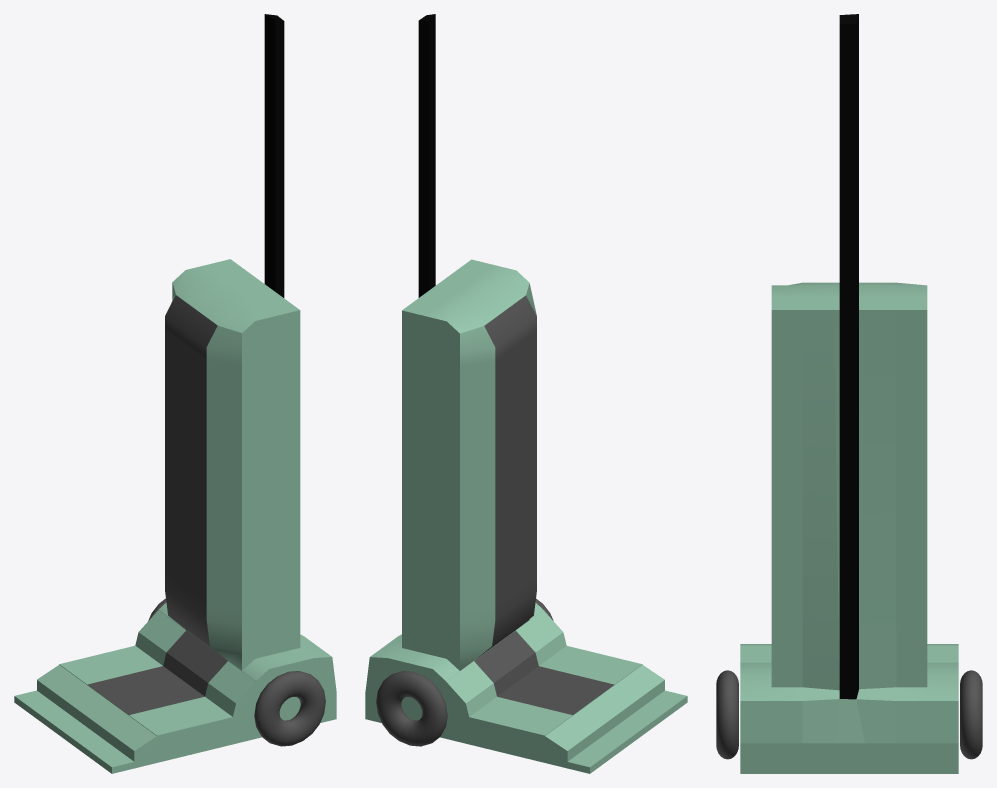
The model's file is Vaccum.fbx.
3 views of the same model, side by side, from view 1: azimuth 30°, elevation 25°; view 2: azimuth 150°, elevation 25°; view 3: azimuth 270°, elevation 25° (orthographic). The views are drawn at different scales.
Visible parts, largest first — view 1: pCube1, wheel; view 2: pCube1, wheel1; view 3: pCube1, wheel, wheel1.
Part boxes in pixels (bbox=[...]): pCube1: bbox=[14, 14, 336, 773]; wheel: bbox=[254, 671, 325, 746]; pCube1: bbox=[365, 14, 687, 773]; wheel1: bbox=[376, 671, 447, 746]; pCube1: bbox=[740, 14, 958, 773]; wheel: bbox=[716, 670, 738, 759]; wheel1: bbox=[960, 670, 982, 759].
Size of the model in its own units: 11.89 by 34.39 by 10.94.
